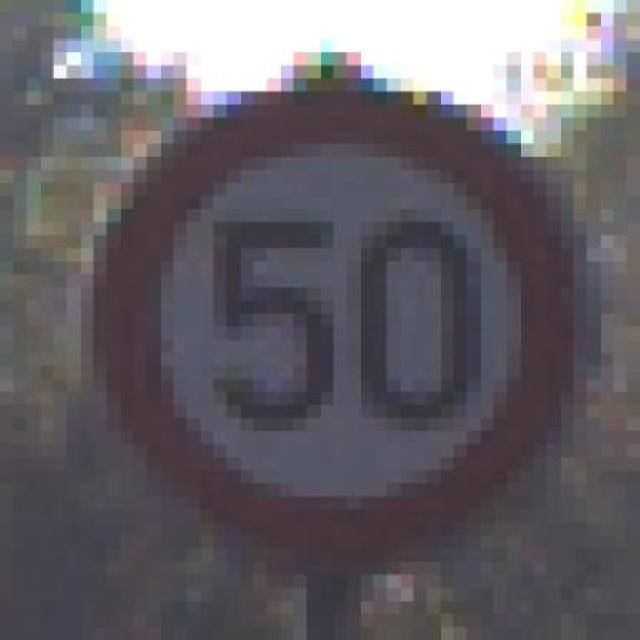50 mph speed limit: (67, 52, 587, 576)
